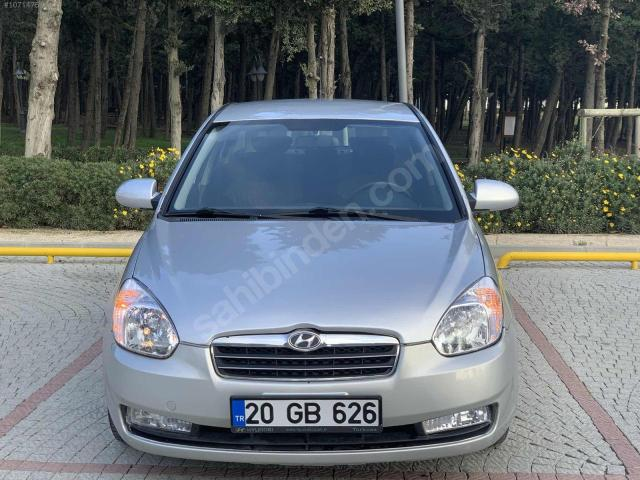plaka: (231, 398, 381, 432)
